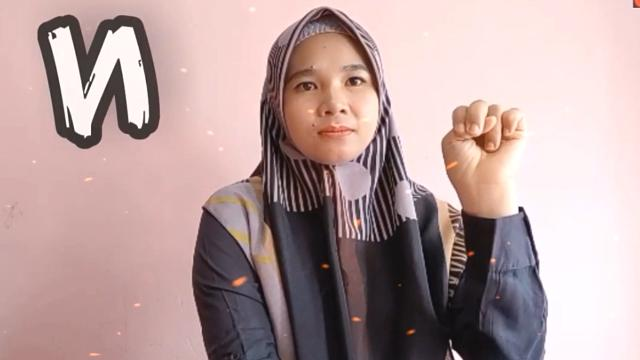N: (432, 97, 536, 192)
